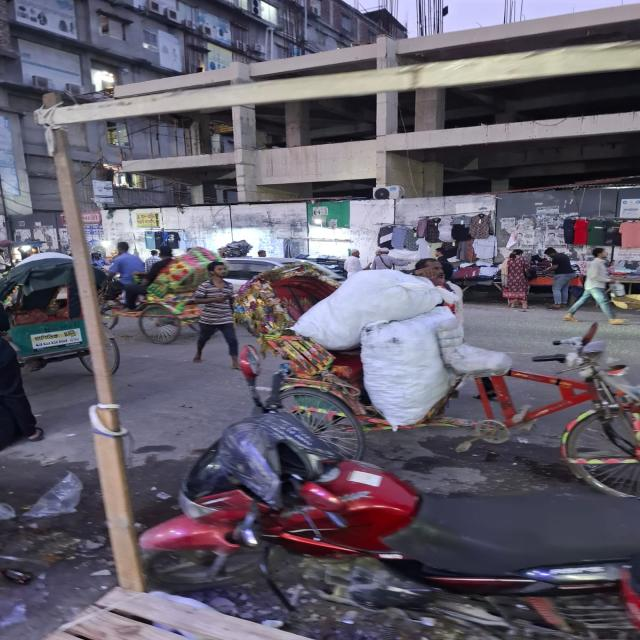person: (192, 260, 240, 370)
